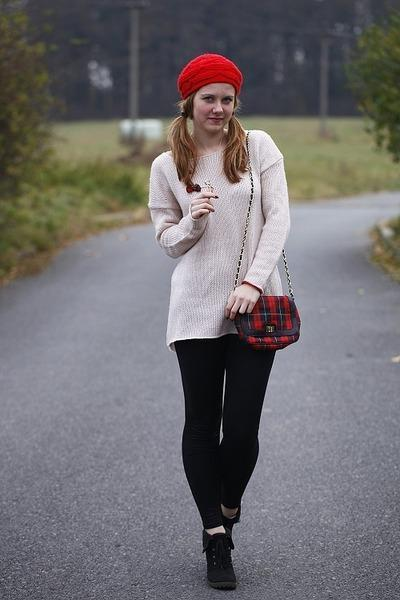sweater: (149, 127, 290, 355)
trousers: (165, 328, 279, 534)
